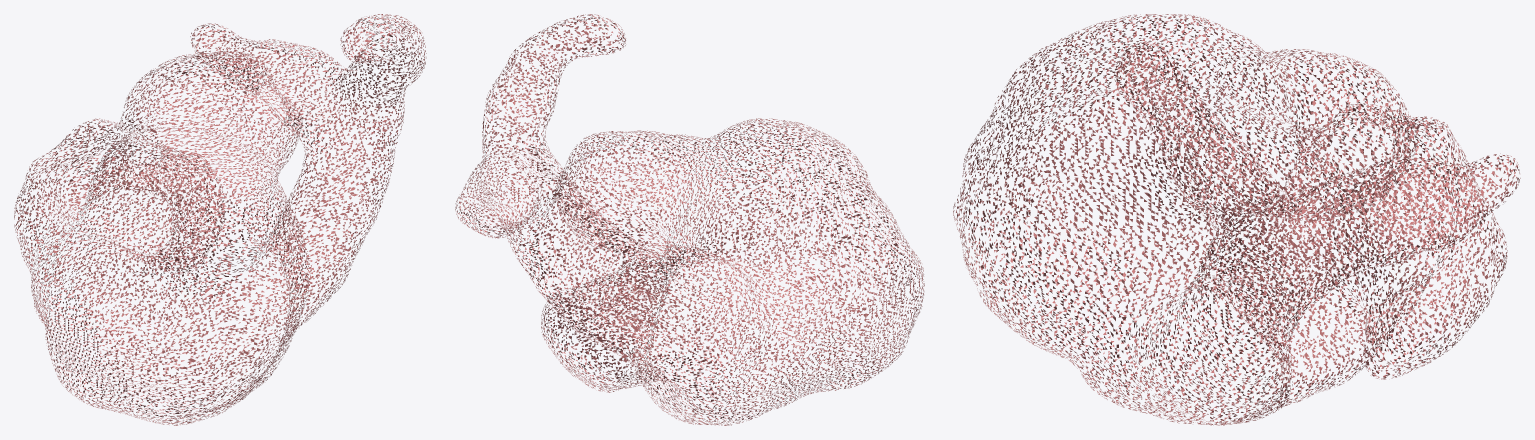
The model's file is heart.glb.
The picture shows the model from 3 angles, left to right: view 1: azimuth 30°, elevation 25°; view 2: azimuth 150°, elevation 25°; view 3: azimuth 270°, elevation 25°; orthographic projection. The views are drawn at different scales.
Bounding box in the file's own units: 128 × 109 × 121.
